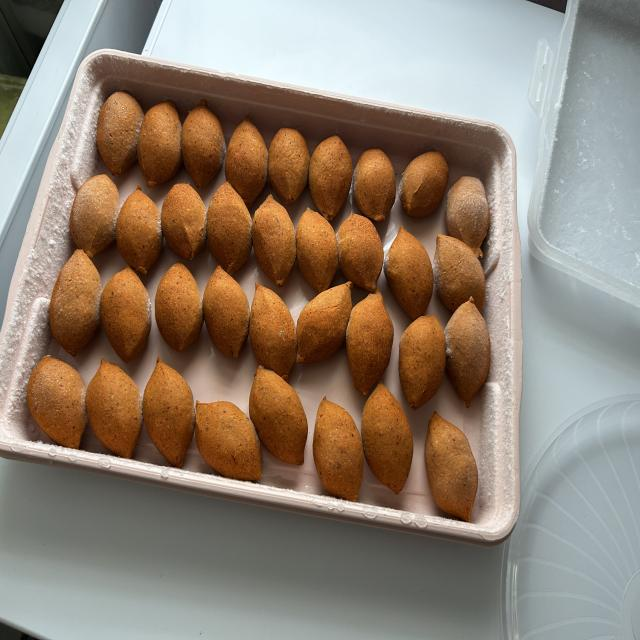kobi: (138, 364, 199, 464), (46, 250, 102, 356), (249, 370, 312, 460), (427, 412, 477, 524), (363, 382, 412, 488), (29, 359, 88, 446), (66, 172, 123, 262), (203, 261, 253, 361), (294, 278, 353, 361), (397, 314, 447, 411), (191, 404, 261, 473), (347, 291, 392, 395), (444, 295, 489, 399), (90, 363, 143, 450), (435, 232, 493, 310), (102, 266, 150, 358), (182, 98, 228, 192), (155, 266, 203, 356), (312, 406, 361, 493), (138, 94, 183, 187), (252, 288, 299, 376), (210, 177, 252, 274), (98, 88, 142, 180), (116, 187, 159, 280), (340, 202, 382, 296), (255, 197, 297, 290), (309, 134, 354, 218), (445, 178, 494, 255), (390, 224, 429, 318), (226, 120, 269, 204), (165, 178, 206, 256), (298, 203, 335, 288), (402, 144, 449, 209), (358, 141, 395, 223), (272, 125, 310, 199)
